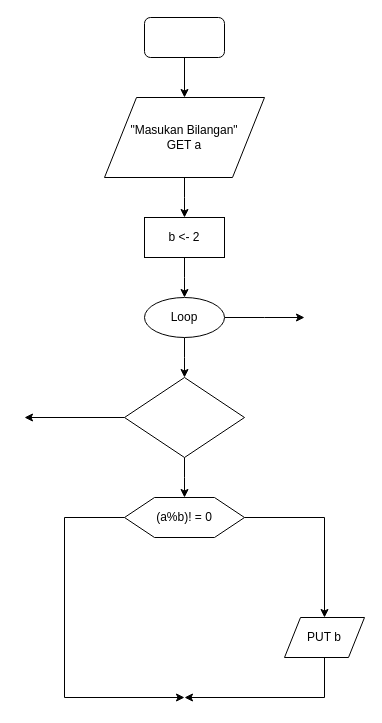
Image size: 382x723. Some labels were removed from this diagram. The shapes that lost their labels are listed below. From the top down, each one's centre as x and y in pixels, then its label:
[184,37]: start
[184,417]: b >= a
